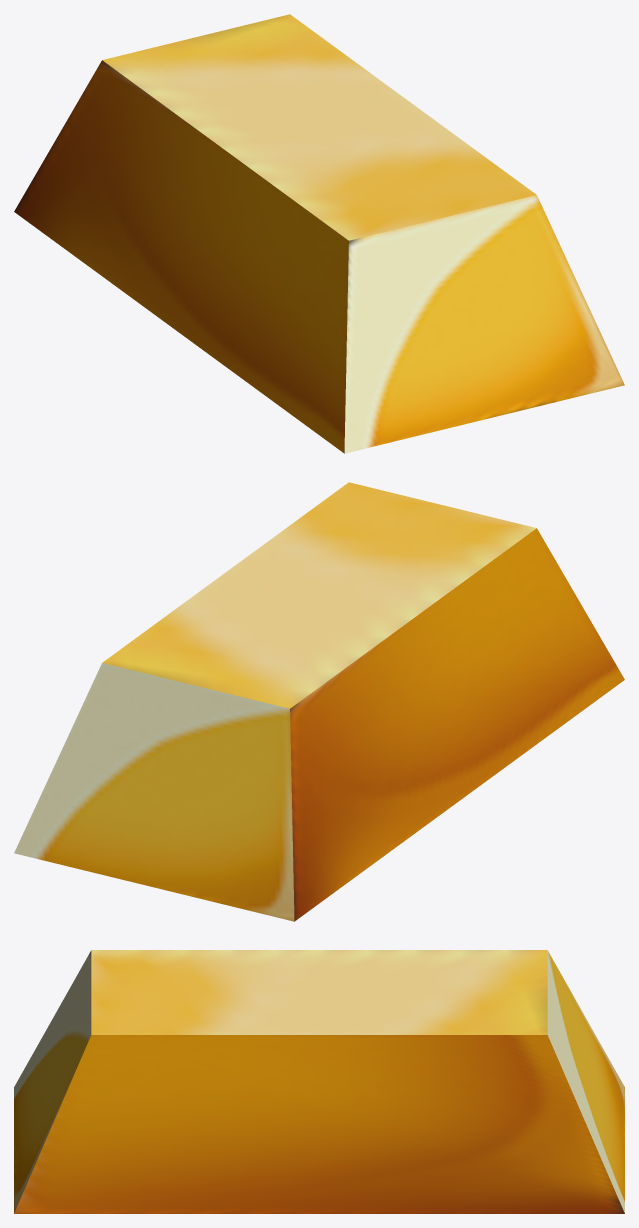
Rendered from Gold_bar.fbx.
3 renders of one model, top to bottom at view 1: azimuth 30°, elevation 25°; view 2: azimuth 150°, elevation 25°; view 3: azimuth 270°, elevation 25°, orthographic. The views are drawn at different scales.
Parts seen in each view (by area): view 1: Gold_bar; view 2: Gold_bar; view 3: Gold_bar.
Boxes of the visible parts, x1=… form: Gold_bar: x1=14, y1=14, x2=624, y2=453; Gold_bar: x1=14, y1=482, x2=624, y2=921; Gold_bar: x1=14, y1=950, x2=624, y2=1213.
Bounding box in the file's own units: 50.15 × 29.22 × 102.
